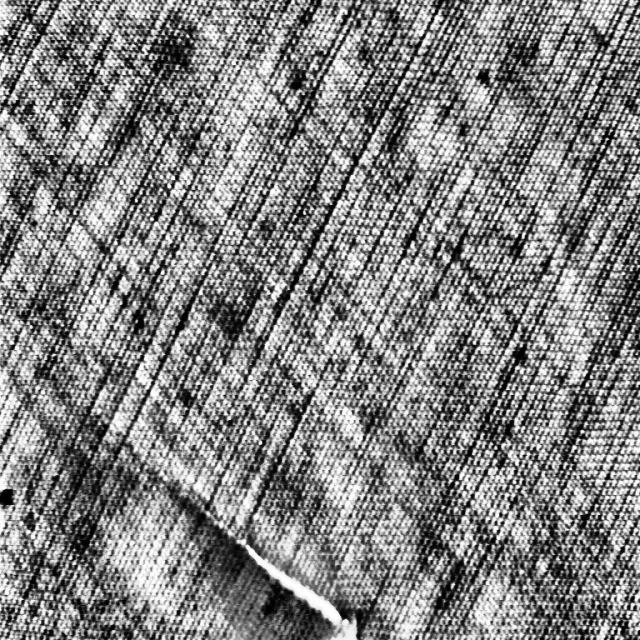Hole: (134, 447, 417, 640)
Stitch: (144, 460, 404, 640)
